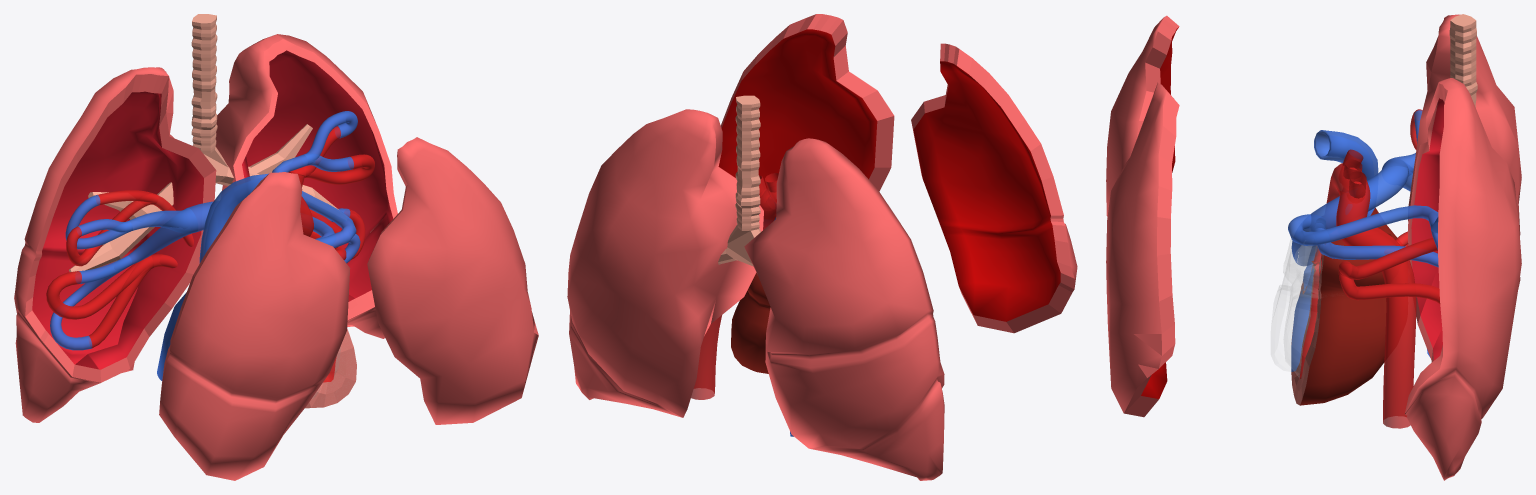
Rendered from peredaran darah kecil.fbx.
3 renders of one model, left to right at view 1: azimuth 30°, elevation 25°; view 2: azimuth 150°, elevation 25°; view 3: azimuth 270°, elevation 25°, orthographic. The views are drawn at different scales.
Visible parts, largest first — view 1: paru kanan cover, Paru kanan, paru kiri cover, paru kiri, arteri pulmonalis, vena pulmonalis, bronkus, heart, bronkiolus kiri; view 2: Paru kanan, paru kiri, paru kanan cover, paru kiri cover, bronkus, heart, aorta; view 3: paru kiri, paru kiri cover, heart, aorta, arteri pulmonalis, paru kanan cover, Paru kanan, heart cover, vena pulmonalis, bronkus.
Part boxes in pixels (x1,y1,x2,y2): paru kanan cover: (159,172,350,480); Paru kanan: (14,67,216,422); paru kiri cover: (367,137,538,424); paru kiri: (215,34,397,338); arteri pulmonalis: (50,111,360,350); vena pulmonalis: (46,126,374,347); bronkus: (69,14,339,272); heart: (157,173,356,408); bronkiolus kiri: (249,124,312,174); Paru kanan: (744,138,944,480); paru kiri: (567,109,763,417); paru kanan cover: (911,43,1077,333); paru kiri cover: (718,14,894,191); bronkus: (718,95,760,266); heart: (731,273,793,436); aorta: (691,173,778,399); paru kiri: (1405,78,1521,480); paru kiri cover: (1106,82,1179,417); heart: (1291,130,1430,405); aorta: (1313,149,1416,428); arteri pulmonalis: (1288,110,1438,267); paru kanan cover: (1106,15,1179,216); Paru kanan: (1408,14,1521,235); heart cover: (1271,239,1320,377); vena pulmonalis: (1338,109,1440,304); bronkus: (1449,14,1477,107).
Size of the model in its own units: 679 by 601 by 608.
